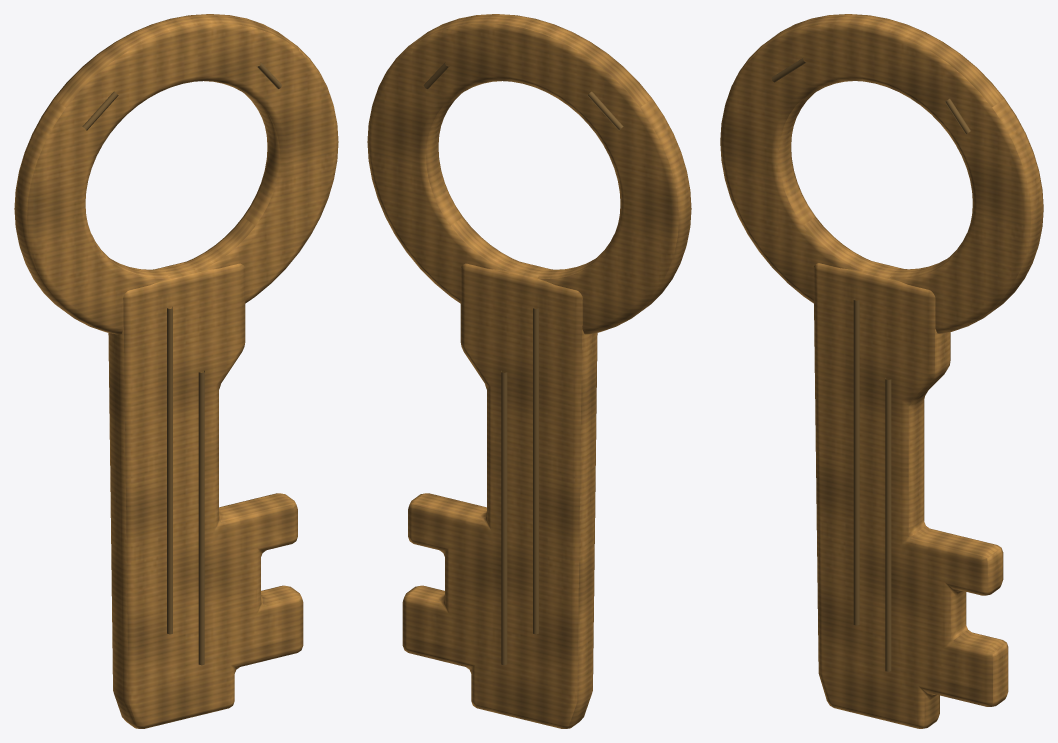
Rendered from gear-brass-key.glb.
3 renders of one model, left to right at view 1: azimuth 30°, elevation 25°; view 2: azimuth 150°, elevation 25°; view 3: azimuth 330°, elevation 25°, orthographic.
Parts seen in each view (by area): view 1: gear-brass-key; view 2: gear-brass-key; view 3: gear-brass-key.
Boxes of the visible parts, bbox=[...] form: gear-brass-key: bbox=[14, 14, 338, 728]; gear-brass-key: bbox=[367, 14, 691, 728]; gear-brass-key: bbox=[720, 14, 1043, 728].
Bounding box in the file's own units: 0.06 × 0.126 × 0.00719.
2 materials, 1 textured.
